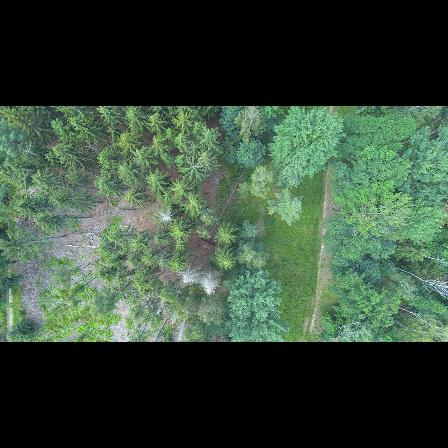Dead: (199, 268, 223, 298), (176, 261, 200, 287)
Sick: (154, 205, 179, 228)
